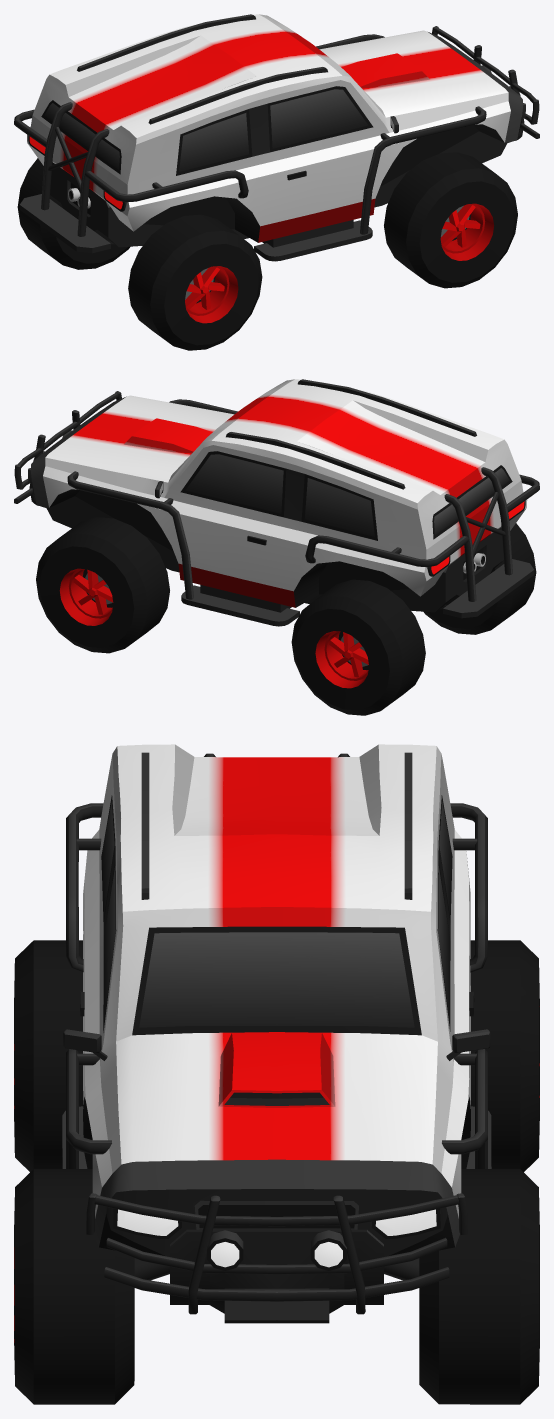
Rendered from Car_014.glb.
The picture shows the model from 3 angles, top to bottom: view 1: azimuth 30°, elevation 25°; view 2: azimuth 150°, elevation 25°; view 3: azimuth 270°, elevation 25°; orthographic projection. The views are drawn at different scales.
Visible parts, largest first — view 1: Car_014, wheel_3_Car_014_Wheel_2R, wheel_1_Car_014_Wheel_1R, wheel_2_Car_014_Wheel_2L; view 2: Car_014, wheel_2_Car_014_Wheel_2L, wheel_0_Car_014_Wheel_1L, wheel_3_Car_014_Wheel_2R; view 3: Car_014, wheel_1_Car_014_Wheel_1R, wheel_0_Car_014_Wheel_1L, wheel_2_Car_014_Wheel_2L, wheel_3_Car_014_Wheel_2R.
Boxes of the visible parts, bbox=[...] form: Car_014: bbox=[14, 14, 539, 261]; wheel_3_Car_014_Wheel_2R: bbox=[128, 214, 262, 350]; wheel_1_Car_014_Wheel_1R: bbox=[384, 152, 517, 288]; wheel_2_Car_014_Wheel_2L: bbox=[17, 158, 130, 269]; Car_014: bbox=[14, 379, 539, 626]; wheel_2_Car_014_Wheel_2L: bbox=[291, 579, 425, 715]; wheel_0_Car_014_Wheel_1L: bbox=[36, 517, 169, 653]; wheel_3_Car_014_Wheel_2R: bbox=[423, 523, 536, 634]; Car_014: bbox=[62, 744, 491, 1323]; wheel_1_Car_014_Wheel_1R: bbox=[14, 1169, 134, 1404]; wheel_0_Car_014_Wheel_1L: bbox=[419, 1169, 539, 1404]; wheel_2_Car_014_Wheel_2L: bbox=[470, 940, 539, 1172]; wheel_3_Car_014_Wheel_2R: bbox=[14, 940, 83, 1171].
Bounding box in the file's own units: 4.78 × 2.28 × 2.62.
Materials: 2 (2 with a texture image).
